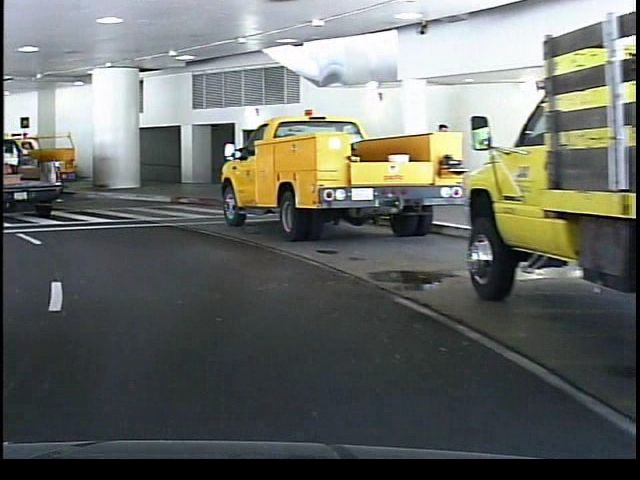person: (426, 116, 457, 212)
